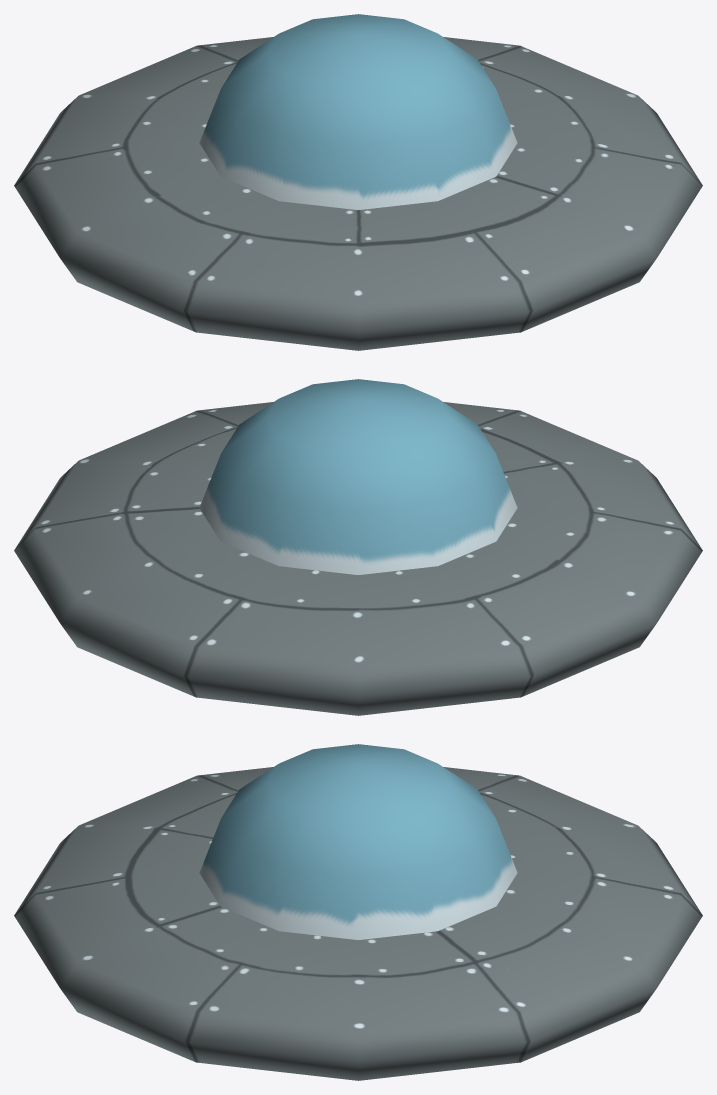
The model's file is Ship_Large_Mesh.fbx.
3 views of the same model, one above another, from view 1: azimuth 30°, elevation 25°; view 2: azimuth 150°, elevation 25°; view 3: azimuth 270°, elevation 25° (orthographic).
Visible parts, largest first — view 1: Ship_Large_Mesh; view 2: Ship_Large_Mesh; view 3: Ship_Large_Mesh.
Part boxes in pixels (x1,y1,x2,y2): Ship_Large_Mesh: (14, 14, 702, 350); Ship_Large_Mesh: (14, 379, 702, 715); Ship_Large_Mesh: (14, 744, 702, 1080).
Bounding box in the file's own units: 13.8 × 4.75 × 13.8.
